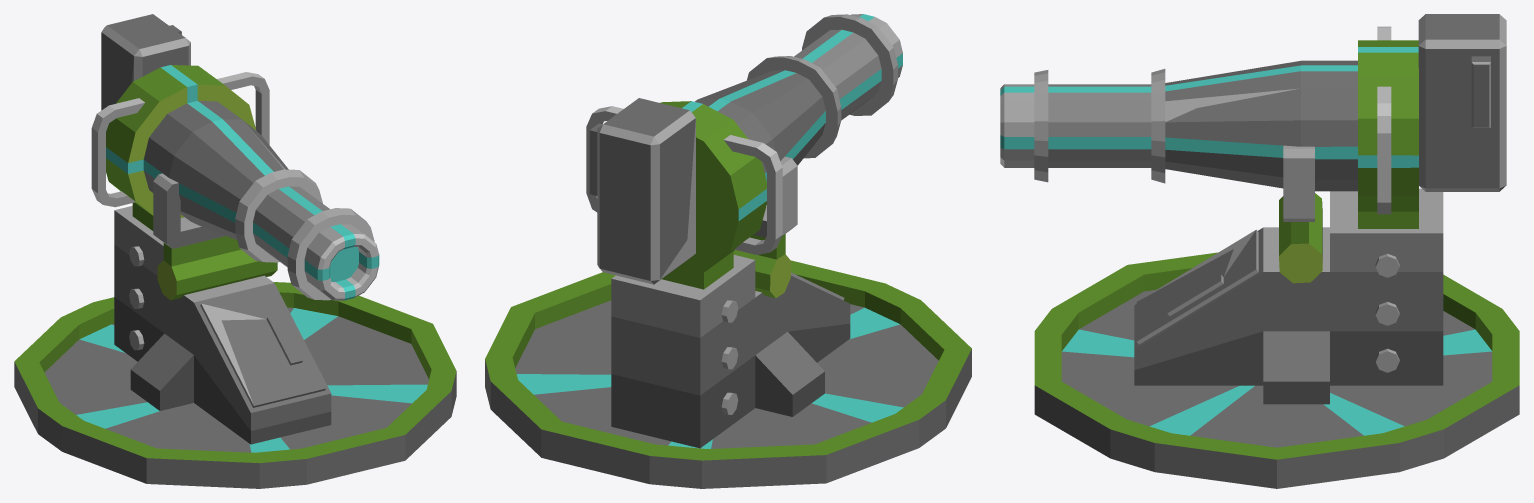
File: tower_laser_green_1.fbx
3 renders of one model, left to right at view 1: azimuth 30°, elevation 25°; view 2: azimuth 150°, elevation 25°; view 3: azimuth 270°, elevation 25°, orthographic. The views are drawn at different scales.
Visible parts, largest first — view 1: top_laser_green_1, tower_laser_green_1; view 2: top_laser_green_1, tower_laser_green_1; view 3: top_laser_green_1, tower_laser_green_1.
Part boxes in pixels (box(x1,y1,x2,y2)): top_laser_green_1: box(91, 14, 379, 444); tower_laser_green_1: box(14, 282, 456, 488); top_laser_green_1: box(586, 14, 902, 448); tower_laser_green_1: box(485, 260, 971, 488); top_laser_green_1: box(1000, 14, 1506, 404); tower_laser_green_1: box(1034, 252, 1519, 488).
Size of the model in its own units: 142 by 110 by 148.
